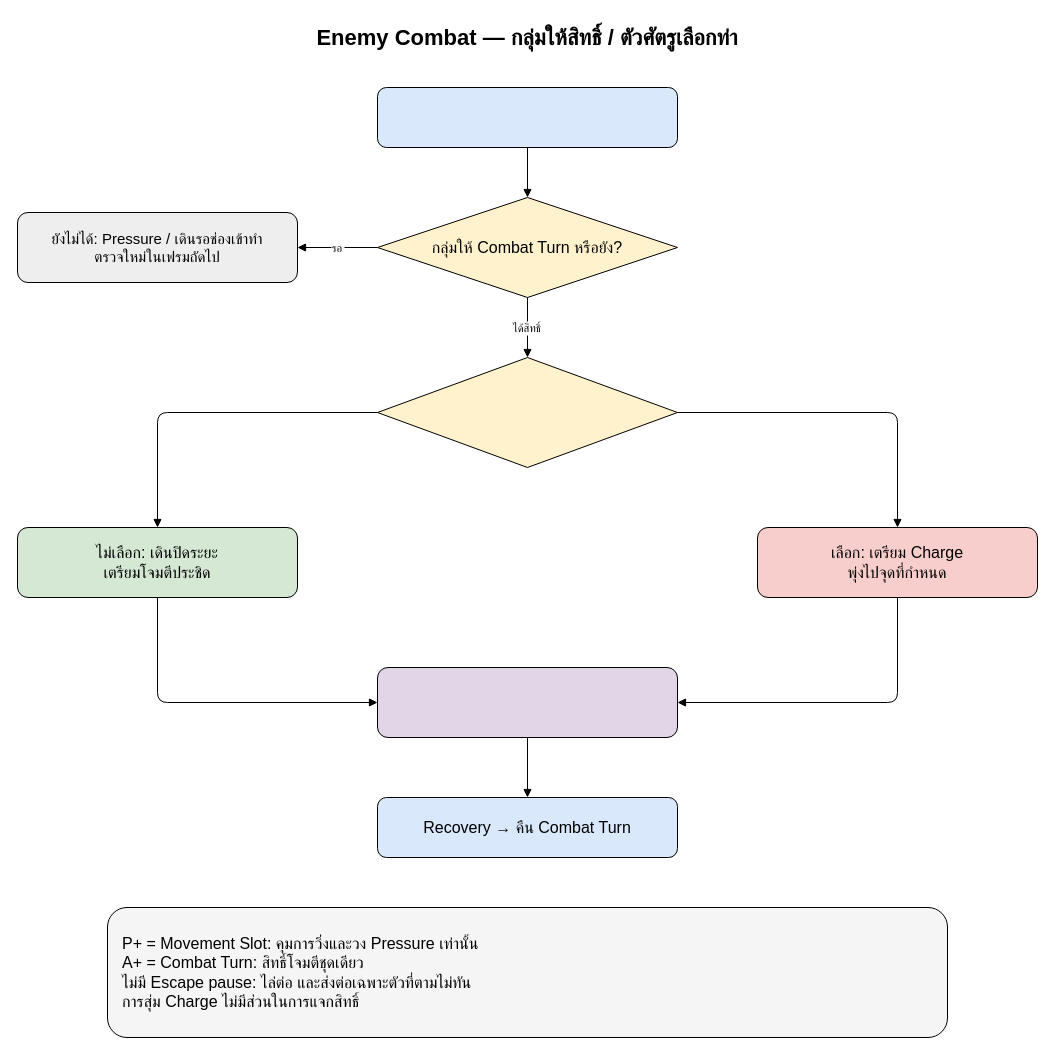
Some shapes in this 1055 by 1055 pixel diagram are drawn without their labels. The shapes that lost their labels are listed below. From the top down, each one's box as (x1, y1, x2, y2) in pixels, then its label:
(376, 86, 678, 148): พบผู้เล่น / เคลื่อนที่เข้าหา
(376, 356, 678, 468): ได้แล้ว: ระยะ Charge ใช้ได้ และสุ่มเลือกท่านี้?
(376, 666, 678, 738): โจมตี / จับโดน หรือพลาด จับโดน: บล็อกการเริ่มโจมตีของกลุ่ม
